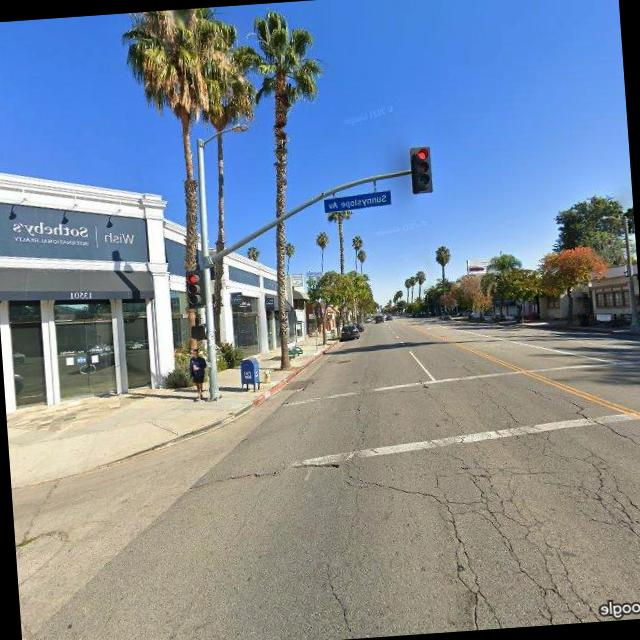crack: (338, 378, 640, 635), (181, 456, 361, 487), (323, 558, 363, 638)
